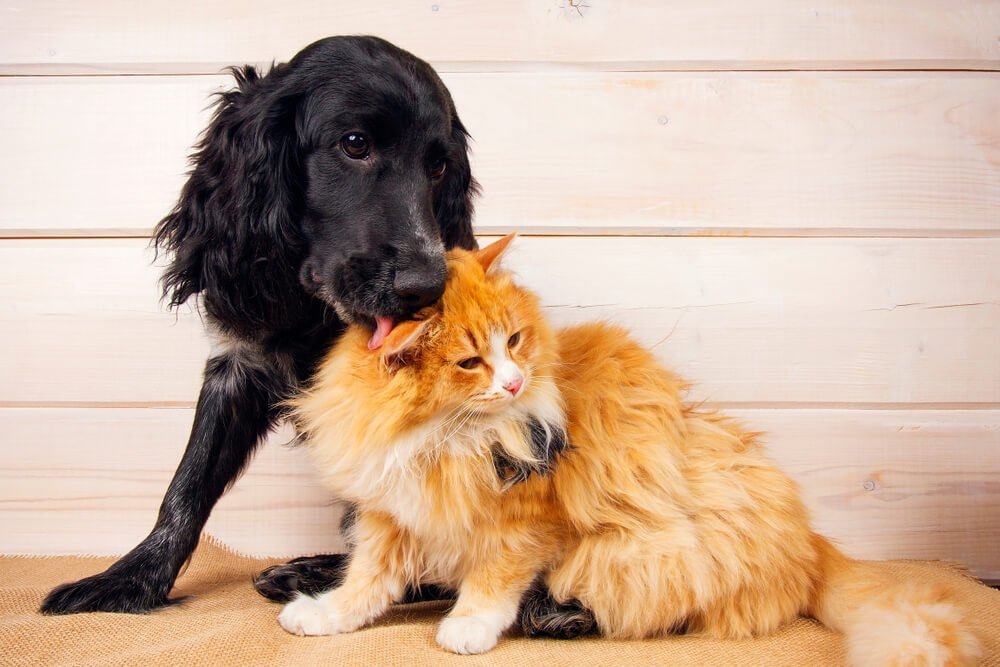cat: (315, 225, 929, 656)
dog: (61, 25, 551, 441)
